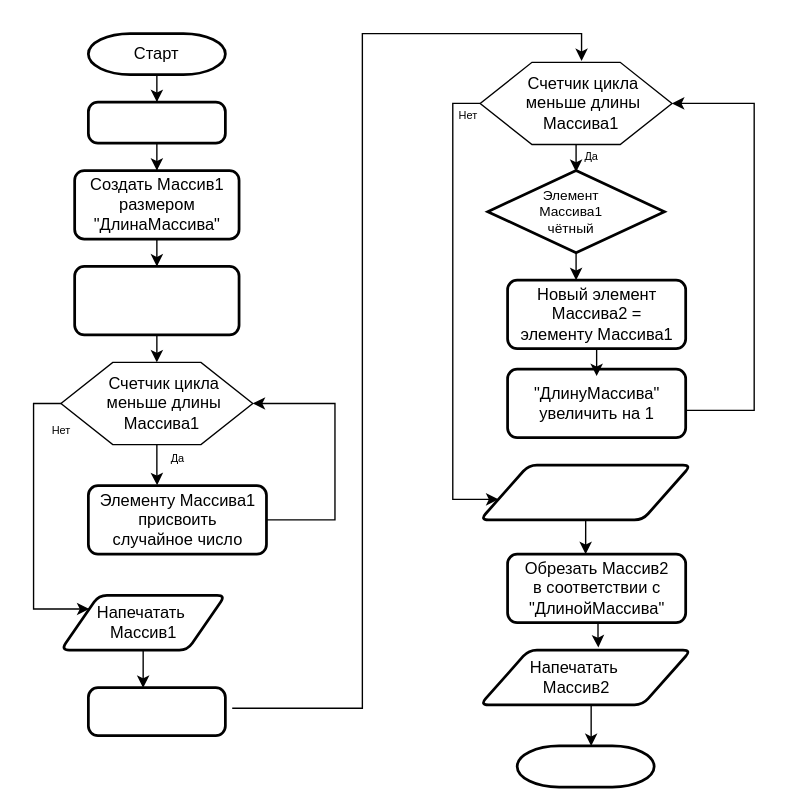
The diagram is 789 pixels wide and 812 high, and some of its shapes have lost their labels. Here are the shapes that lost their labels. From the top down, the box of each, then its label:
(86, 100, 226, 144): "ДлинаМассива" = 25
(73, 264, 240, 336): Создать Массив2 размером "ДлинаМассива"
(478, 463, 692, 521): Напечатать "ДлинуМассива"
(86, 686, 226, 736): "ДлинаМассива" = 0
(515, 744, 655, 788): Конец
